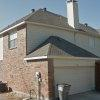Chimney: (59, 2, 86, 30)
